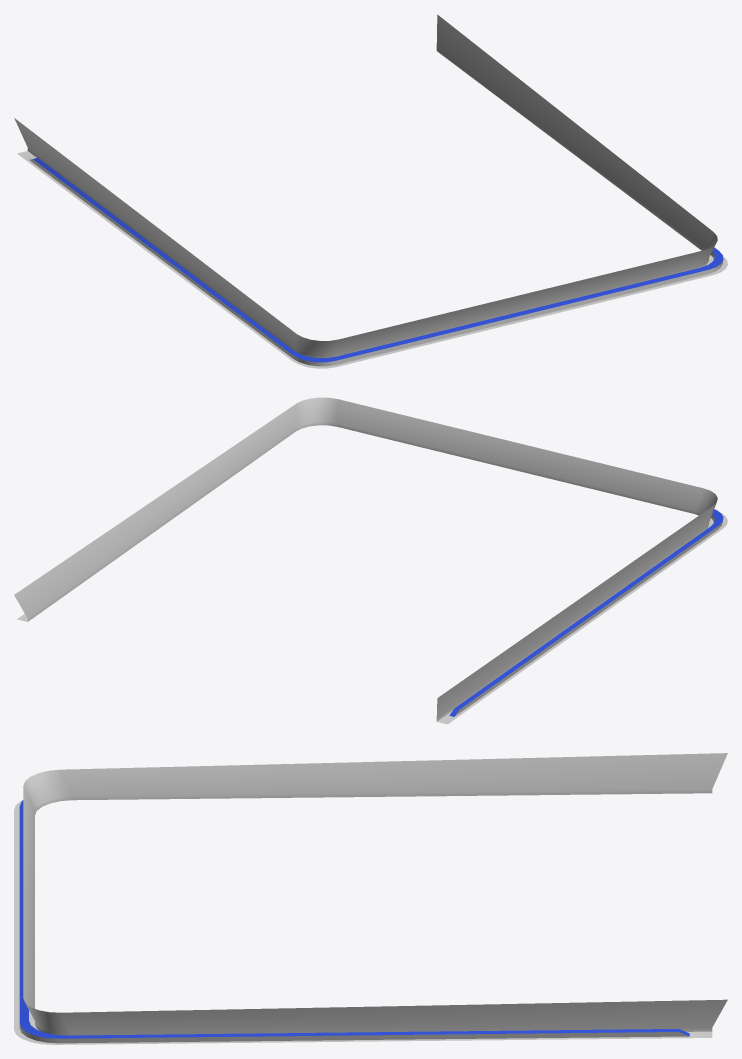
The model's file is AG_Room1_RimLight.fbx.
3 views of the same model, one above another, from view 1: azimuth 30°, elevation 25°; view 2: azimuth 150°, elevation 25°; view 3: azimuth 270°, elevation 25° (orthographic). The views are drawn at different scales.
Visible parts, largest first — view 1: AG_Room1_RimLight; view 2: AG_Room1_RimLight; view 3: AG_Room1_RimLight.
Boxes of the visible parts, bbox=[...] form: AG_Room1_RimLight: bbox=[14, 14, 727, 368]; AG_Room1_RimLight: bbox=[14, 397, 727, 724]; AG_Room1_RimLight: bbox=[14, 753, 727, 1044].
Size of the model in its own units: 3933 by 318 by 4727.
